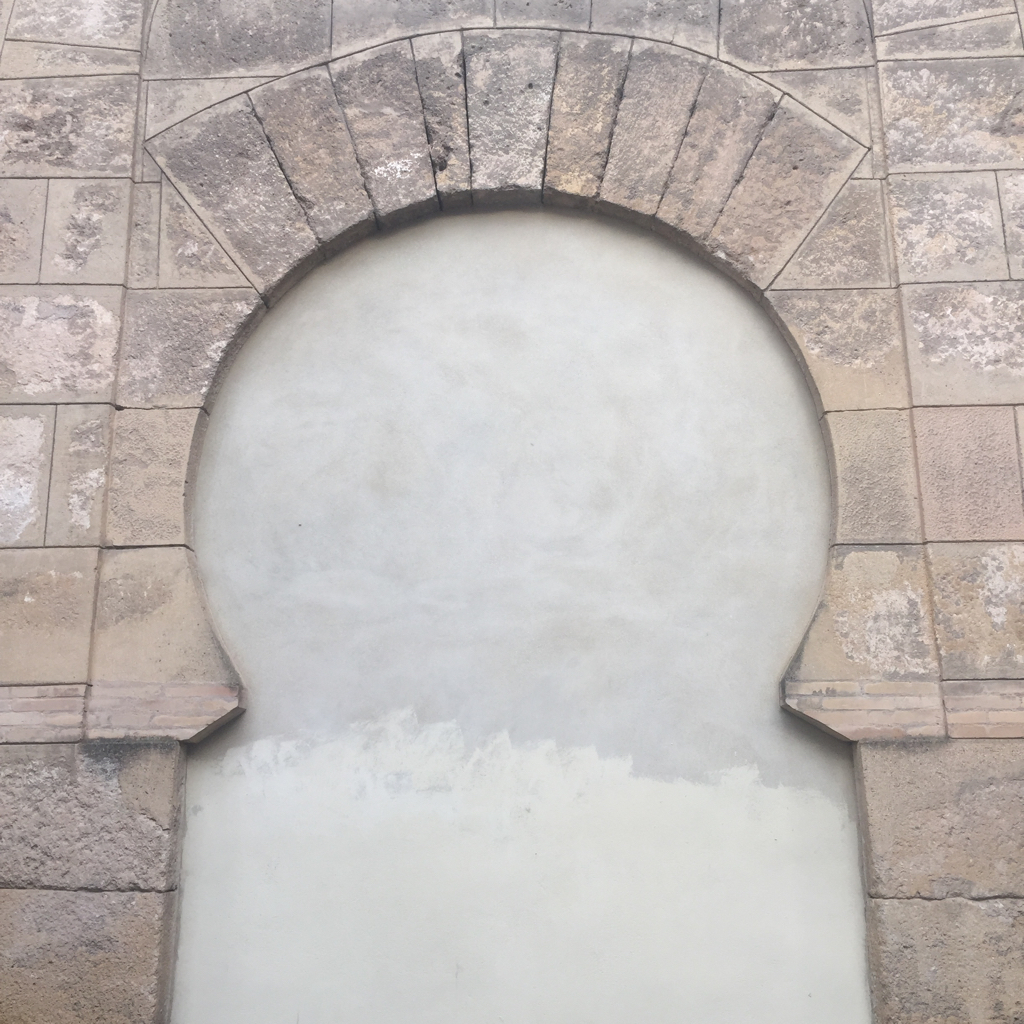arco-herradura: (137, 165, 908, 795)
